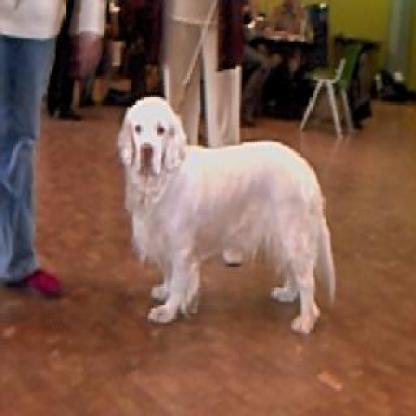clumber: (113, 92, 337, 334)
